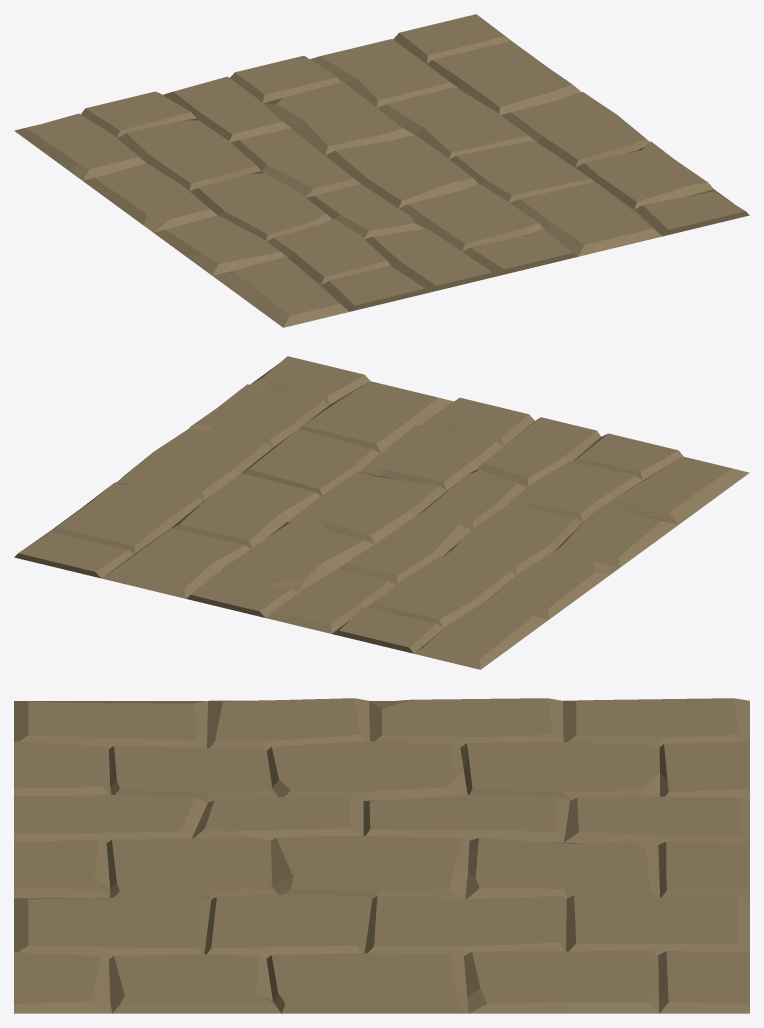
Rendered from Wall_low.fbx.
3 renders of one model, top to bottom at view 1: azimuth 30°, elevation 25°; view 2: azimuth 150°, elevation 25°; view 3: azimuth 270°, elevation 25°, orthographic. The views are drawn at different scales.
Visible parts, largest first — view 1: Wall_low; view 2: Wall_low; view 3: Wall_low.
Part boxes in pixels (x1=…): Wall_low: x1=14, y1=14, x2=749, y2=327; Wall_low: x1=14, y1=356, x2=749, y2=669; Wall_low: x1=14, y1=698, x2=749, y2=1013.
Size of the model in its own units: 2 by 0.0269 by 2.
